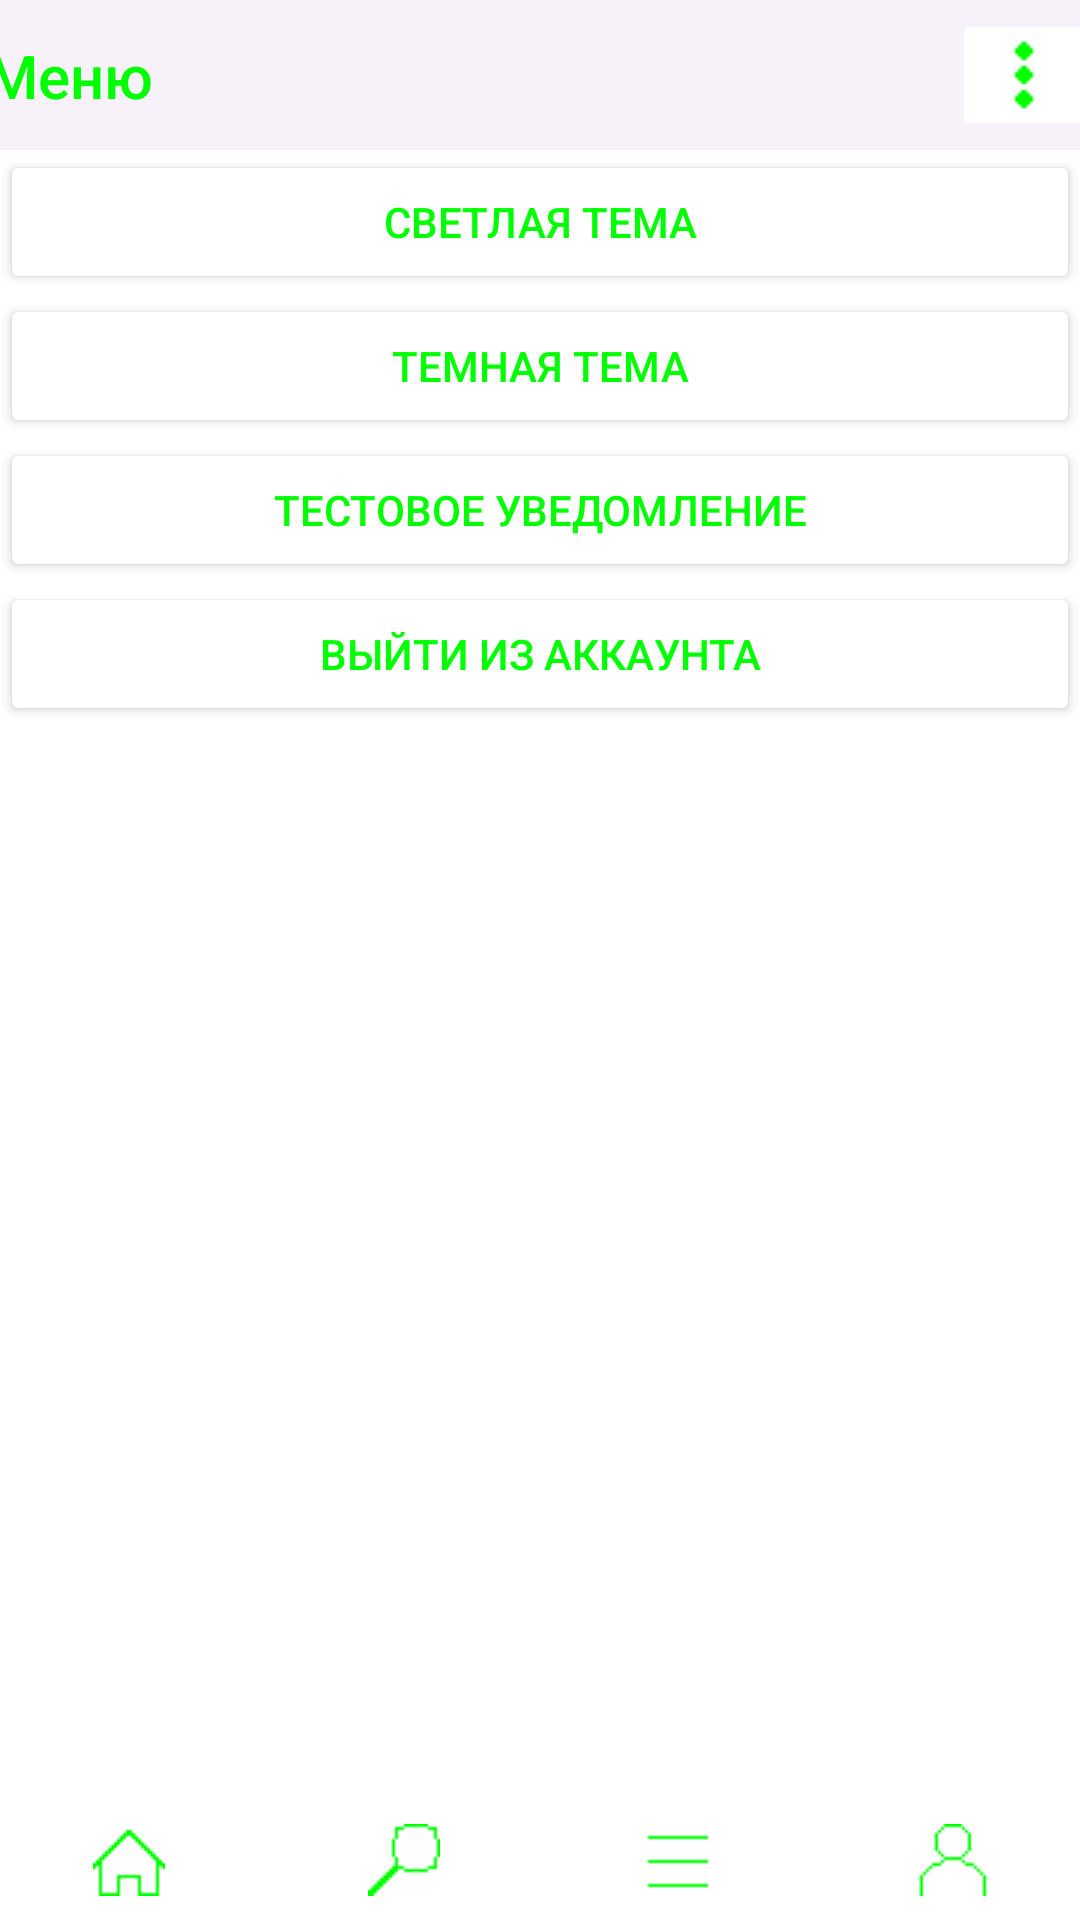

Icons on this 1080×1920 Android screen, each with its box as rect(x1, y1, x2, y2):
menu: rect(647, 1835, 709, 1888)
search: rect(368, 1824, 440, 1896)
